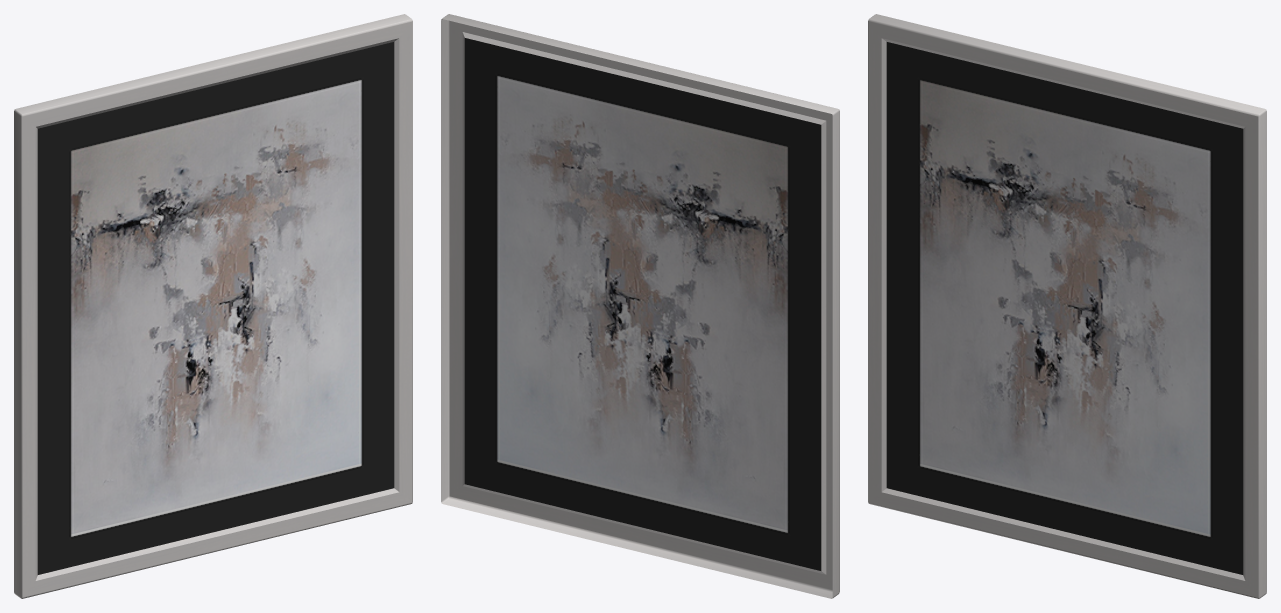
The model's file is paints6.FBX.
3 renders of one model, left to right at view 1: azimuth 30°, elevation 25°; view 2: azimuth 150°, elevation 25°; view 3: azimuth 330°, elevation 25°, orthographic.
Parts seen in each view (by area): view 1: paints6; view 2: paints6; view 3: paints6.
Boxes of the visible parts, box(x1,y1,x2,y2) form: paints6: box(14, 14, 412, 598); paints6: box(441, 14, 839, 598); paints6: box(868, 14, 1266, 598).
Bounding box in the file's own units: 30.57 × 1.03 × 36.17.
